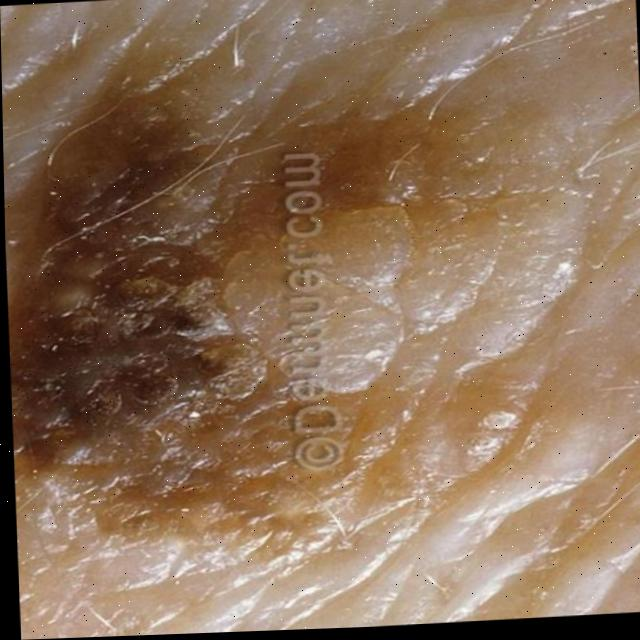Eczema: (2, 91, 544, 587)
